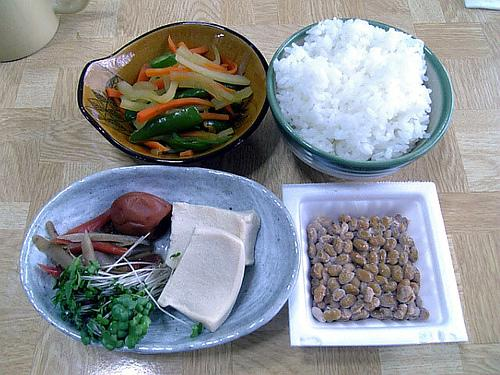plate: (19, 166, 297, 353), (266, 22, 453, 179)
rice: (273, 18, 430, 162)
